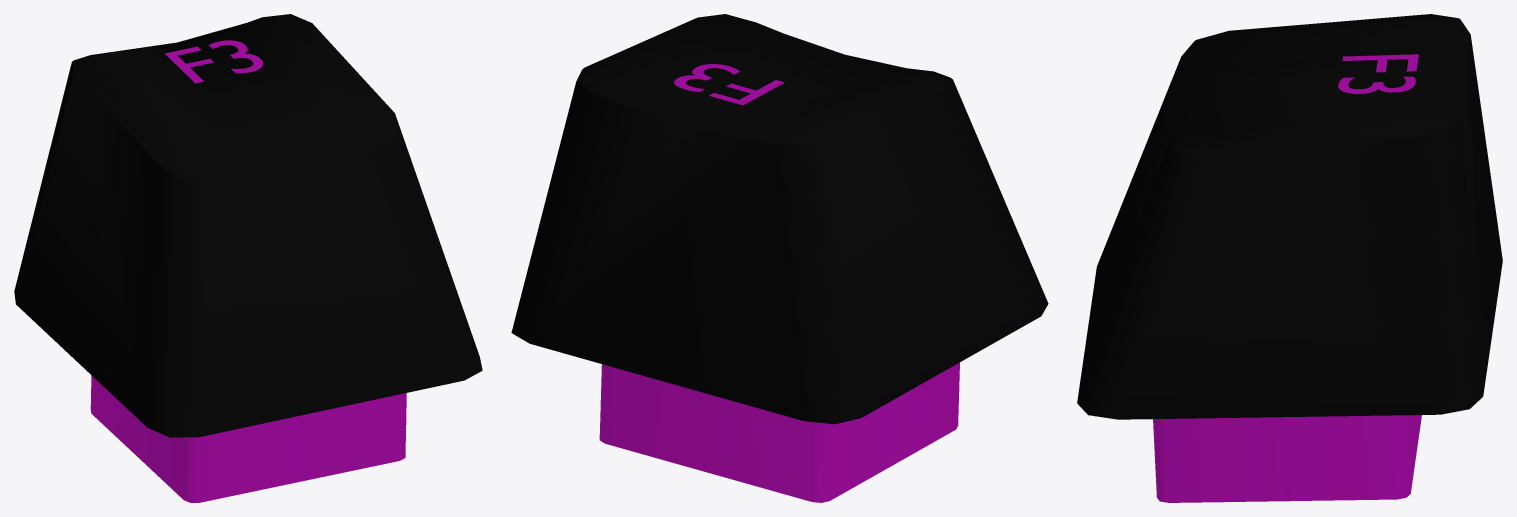
File: f3-xg0CeSsv.glb
3 views of the same model, side by side, from view 1: azimuth 30°, elevation 25°; view 2: azimuth 150°, elevation 25°; view 3: azimuth 270°, elevation 25° (orthographic). The views are drawn at different scales.
Visible parts, largest first — view 1: StudyShelf_1145; view 2: StudyShelf_1145; view 3: StudyShelf_1145.
Boxes of the visible parts, x1,y1,x2,y2 form: StudyShelf_1145: [14, 14, 482, 502]; StudyShelf_1145: [511, 14, 1048, 502]; StudyShelf_1145: [1077, 14, 1502, 502].
Bounding box in the file's own units: 4.35 × 4.31 × 4.35.
2 materials, 1 textured.
